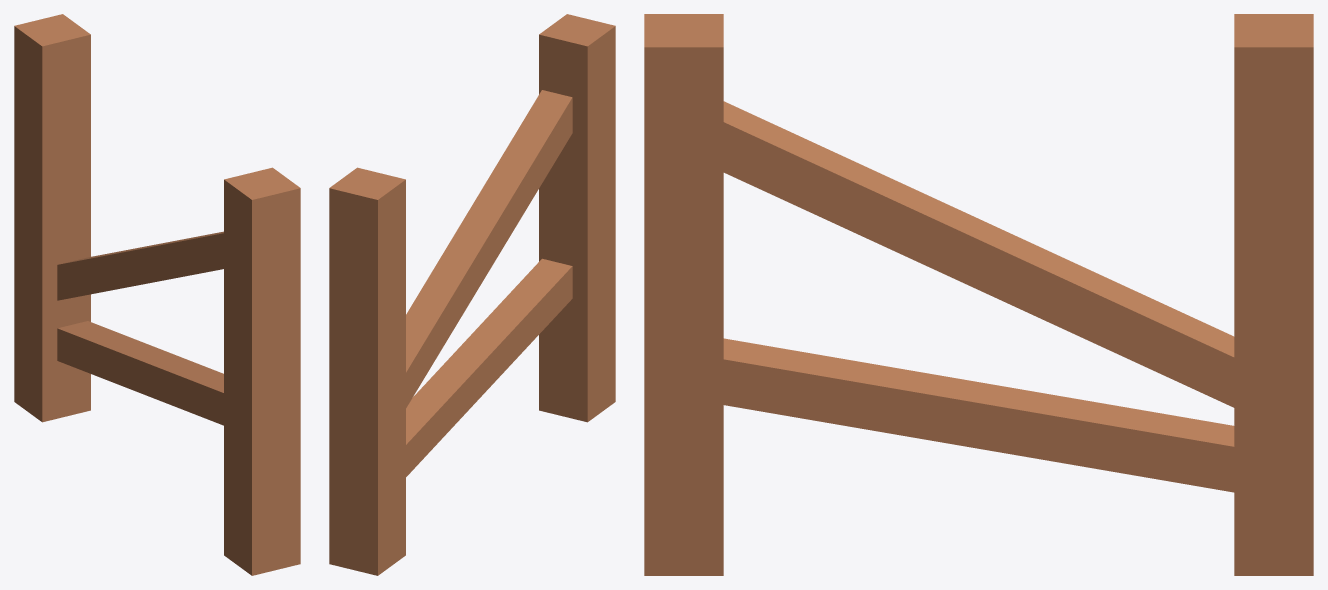
The model's file is fence_2.fbx.
3 renders of one model, left to right at view 1: azimuth 30°, elevation 25°; view 2: azimuth 150°, elevation 25°; view 3: azimuth 270°, elevation 25°, orthographic. The views are drawn at different scales.
Visible parts, largest first — view 1: Cube, Cube.001, Cube.003, Cube.002; view 2: Cube.001, Cube, Cube.002, Cube.003; view 3: Cube, Cube.001, Cube.002, Cube.003.
Boxes of the visible parts, x1,y1,x2,y2 form: Cube: [224, 167, 300, 575]; Cube.001: [14, 14, 90, 422]; Cube.003: [57, 321, 223, 425]; Cube.002: [57, 231, 223, 300]; Cube.001: [329, 167, 405, 575]; Cube: [539, 14, 615, 422]; Cube.002: [406, 90, 572, 407]; Cube.003: [406, 258, 572, 476]; Cube: [644, 14, 723, 575]; Cube.001: [1234, 14, 1313, 575]; Cube.002: [723, 101, 1234, 407]; Cube.003: [723, 338, 1234, 492].
Bounding box in the file's own units: 11.82 × 87.18 × 100.
